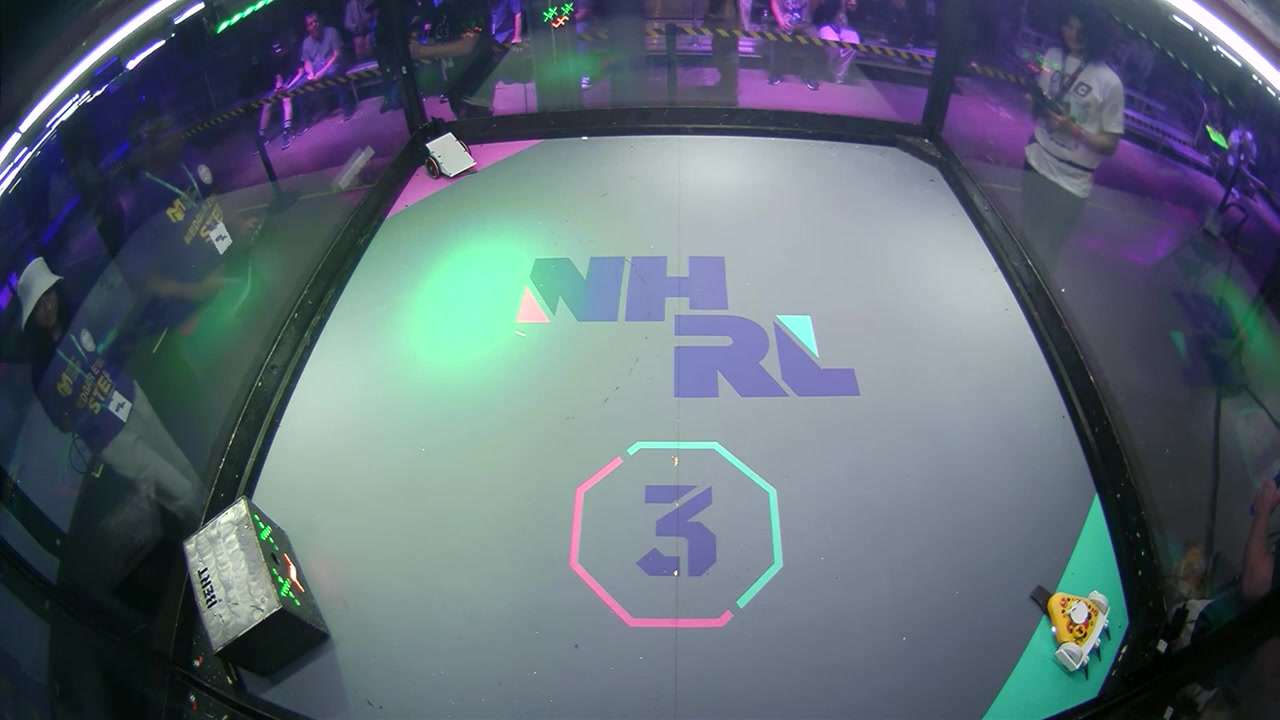combatbot: (1025, 583, 1113, 677), (420, 131, 483, 180)
housebot: (183, 497, 329, 680)
